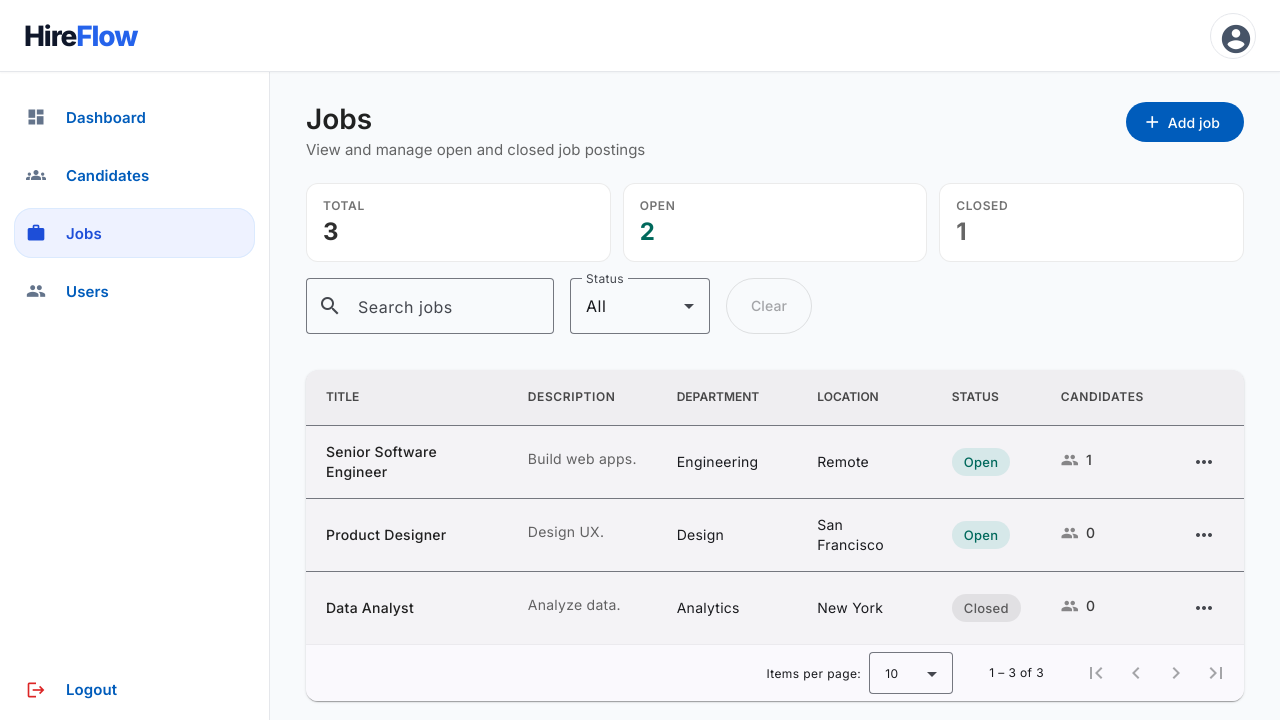
Jobs page status filter › filters rows when selecting Closed
Click the dropdown with test id "jobs-status-select".
click(596, 306)  # box [586,294,694,318]
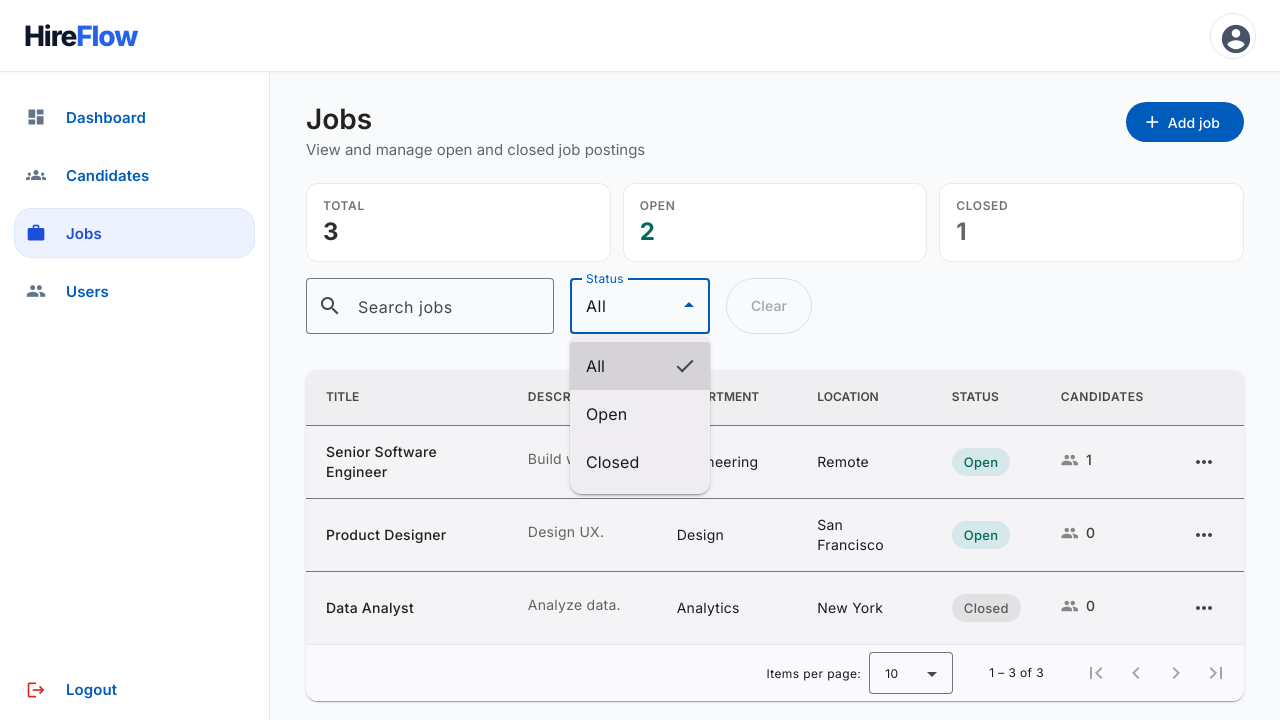
Click the option "Closed".
click(613, 462)  # box [586,452,639,472]
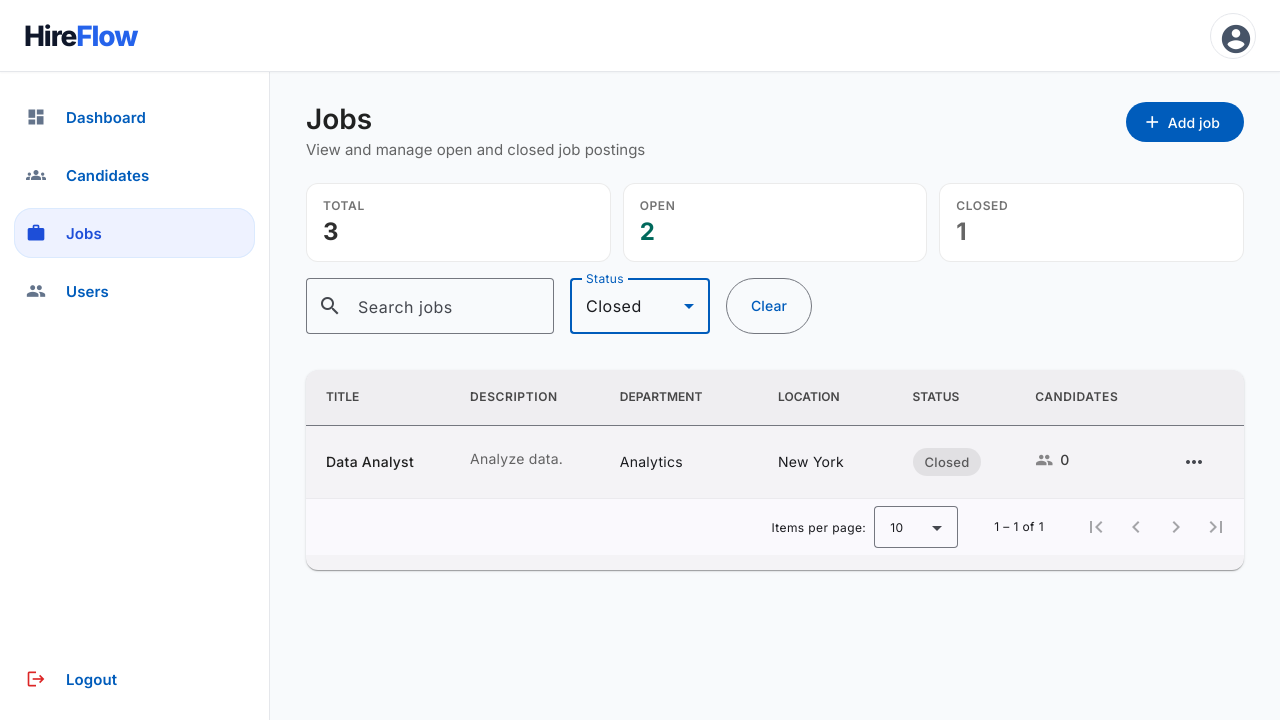
Expected: the text "Data Analyst" is shown, [326,453,414,470]
Now the text "Senior Software Engineer" is gone
Now the text "Product Designer" is gone
